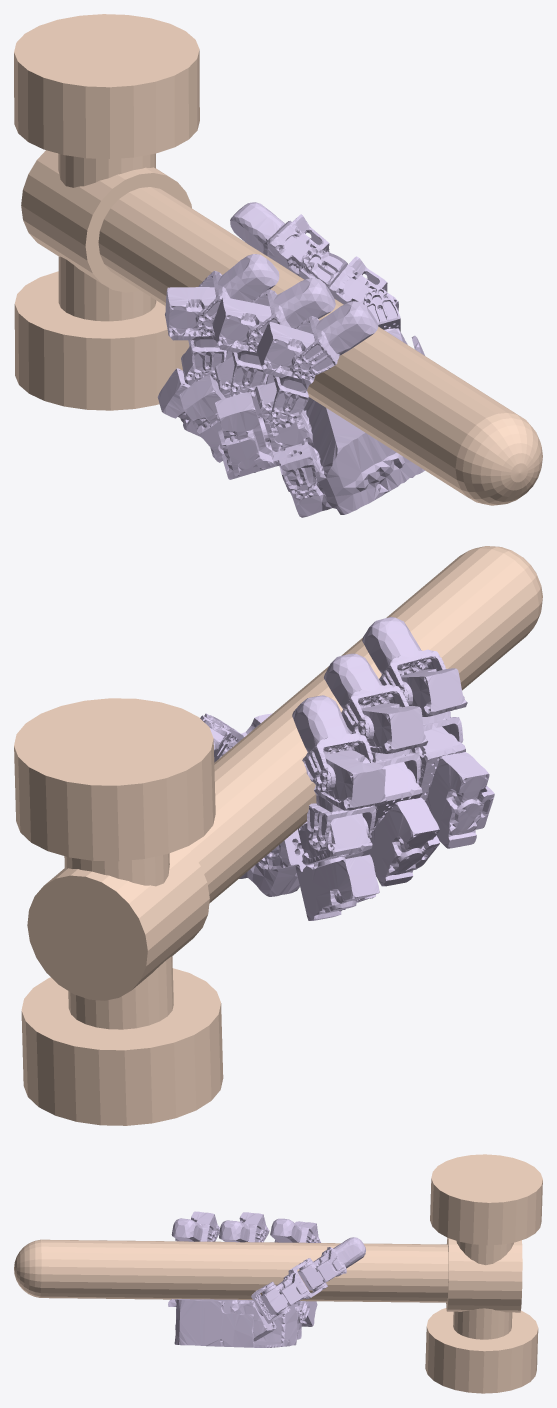
3 views of the same model, one above another, from view 1: azimuth 30°, elevation 25°; view 2: azimuth 150°, elevation 25°; view 3: azimuth 270°, elevation 25° (orthographic). The views are drawn at different scales.
Visible parts, largest first — view 1: world, LEAP_hand; view 2: world, LEAP_hand; view 3: world, LEAP_hand.
Boxes of the visible parts, x1=… form: world: x1=14, y1=14, x2=542, y2=505; LEAP_hand: x1=157, y1=202, x2=424, y2=517; world: x1=14, y1=546, x2=542, y2=1125; LEAP_hand: x1=200, y1=617, x2=494, y2=920; world: x1=14, y1=1154, x2=542, y2=1393; LEAP_hand: x1=168, y1=1211, x2=365, y2=1347.
Bounding box in the file's own units: 0.1831 × 0.2194 × 0.5396.
